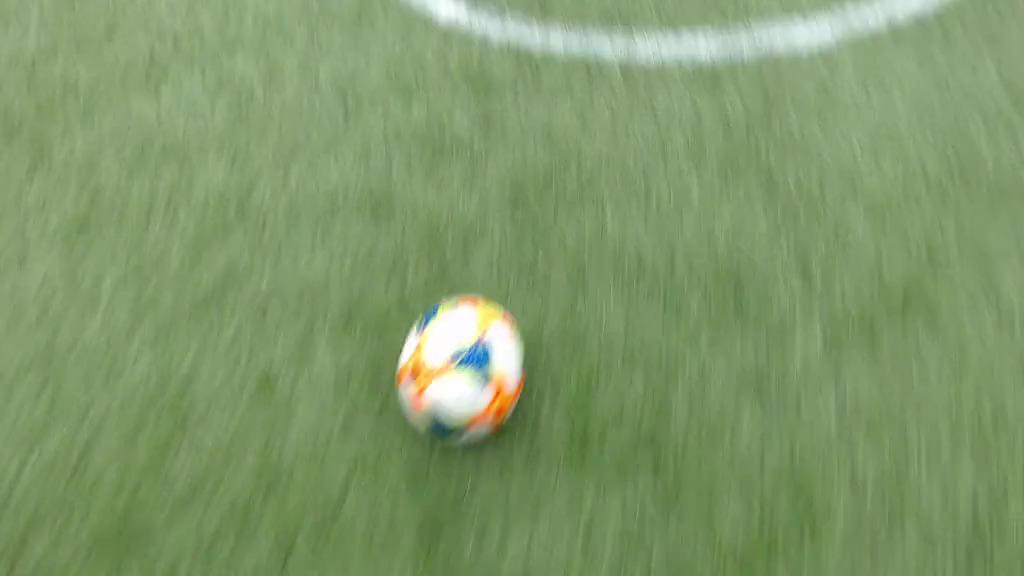ball: (399, 292, 524, 445)
